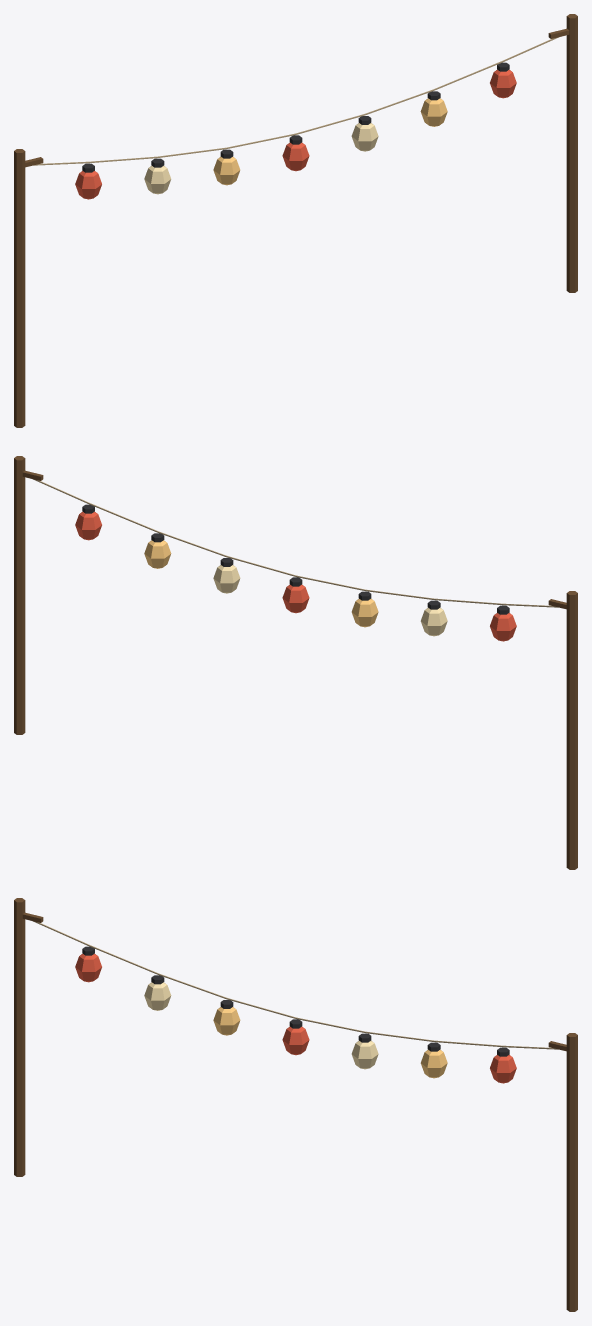
File: lantern_string.glb
3 renders of one model, top to bottom at view 1: azimuth 30°, elevation 25°; view 2: azimuth 150°, elevation 25°; view 3: azimuth 330°, elevation 25°, orthographic.
Visible parts, largest first — view 1: lantern_string; view 2: lantern_string; view 3: lantern_string.
Part boxes in pixels (left/top/right/bottom): lantern_string: left=14, top=14, right=577, bottom=427; lantern_string: left=14, top=456, right=577, bottom=869; lantern_string: left=14, top=898, right=577, bottom=1311.
Bounding box in the file's own units: 8.12 × 3.8 × 0.34.
